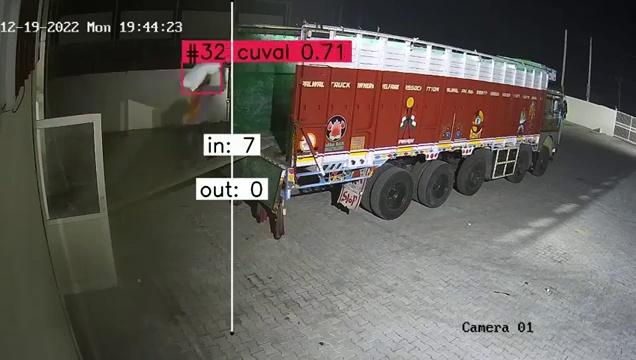karung: (184, 64, 220, 91)
